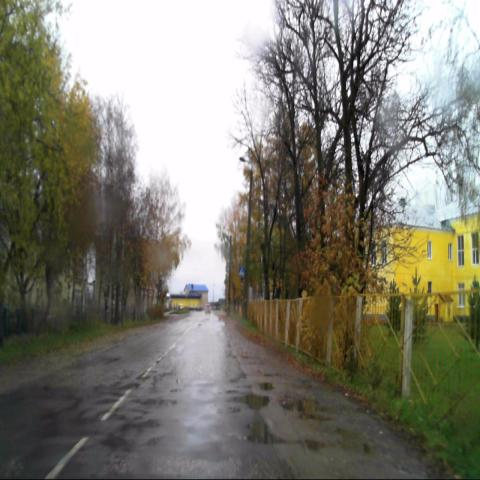5_19_1: (238, 267, 244, 278)
